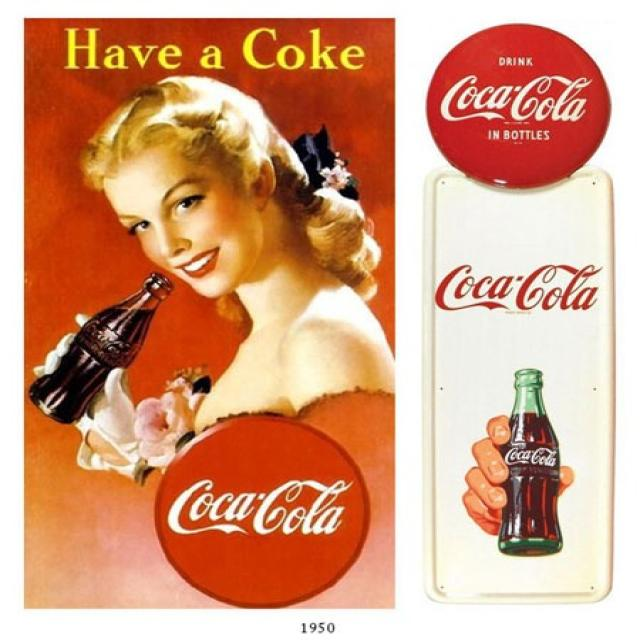coca cola: (166, 474, 355, 546), (437, 68, 602, 129), (436, 261, 612, 318), (506, 439, 565, 470)
